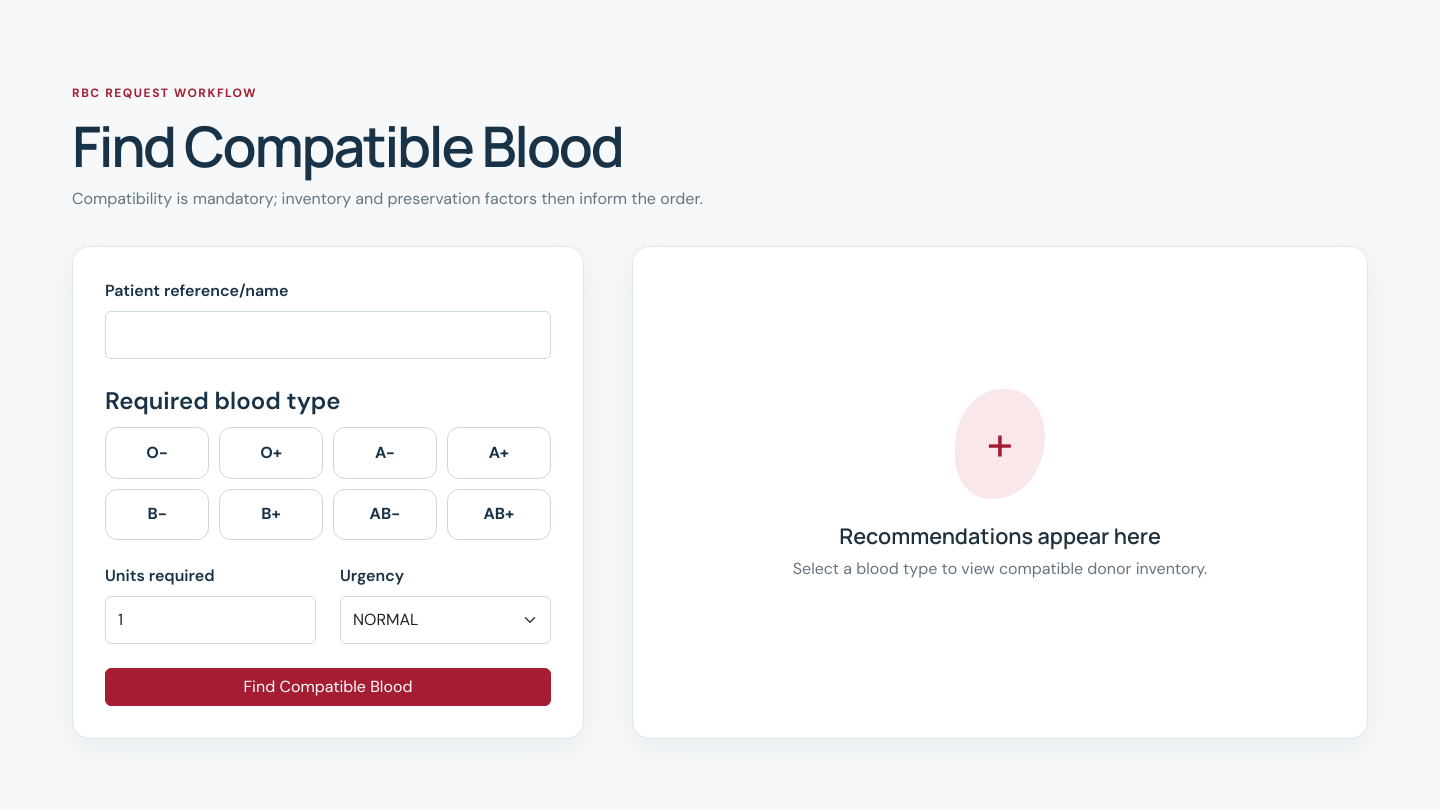
Test case: request form validates and submits
Click the button "Find Compatible Blood".
click(328, 687)  # box [105, 668, 551, 706]
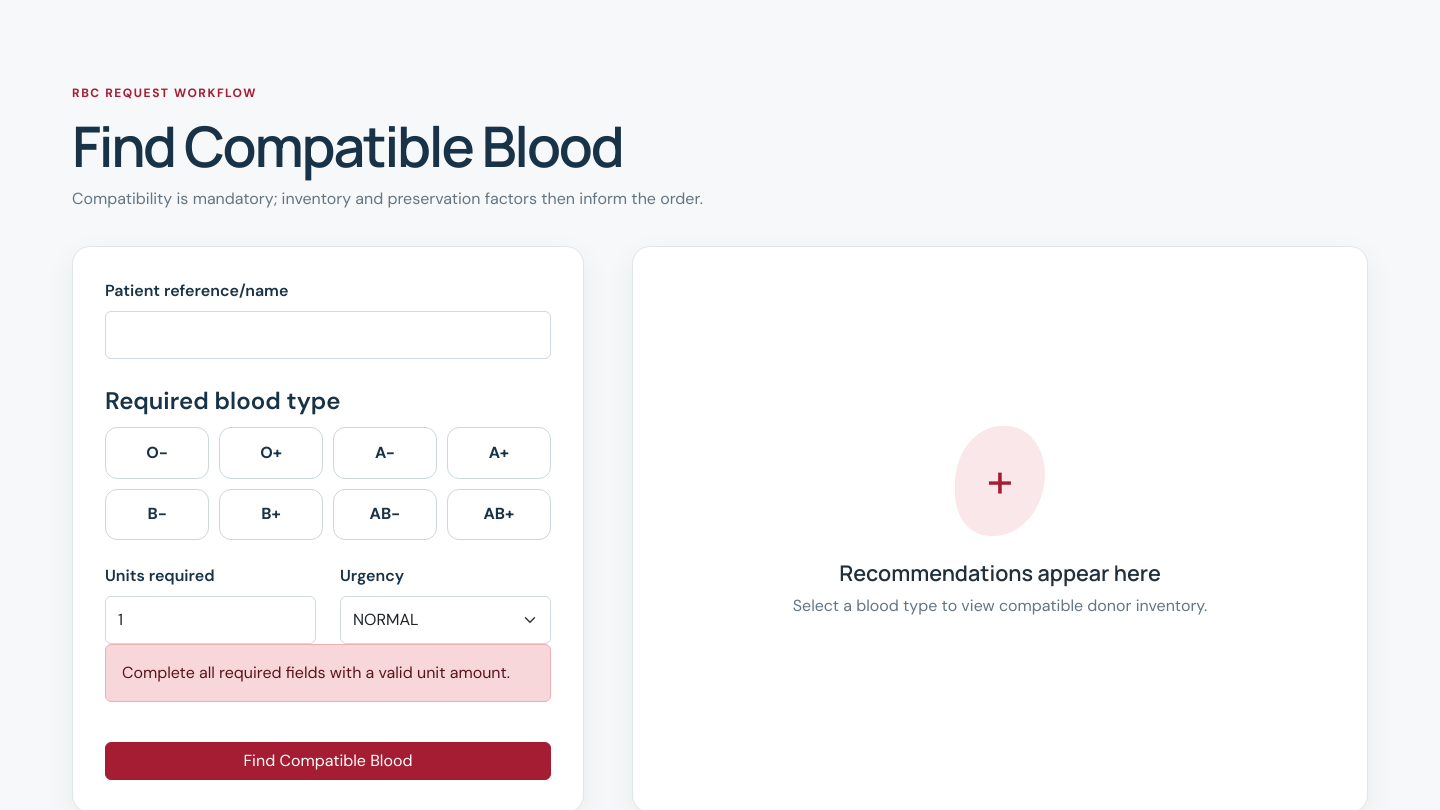
Expected: the message shows "Complete", [122, 662, 510, 683]
Type "P-1" into the field labelled "Patient reference/name".
click(328, 335); type("P-1")  # box [105, 311, 551, 359]
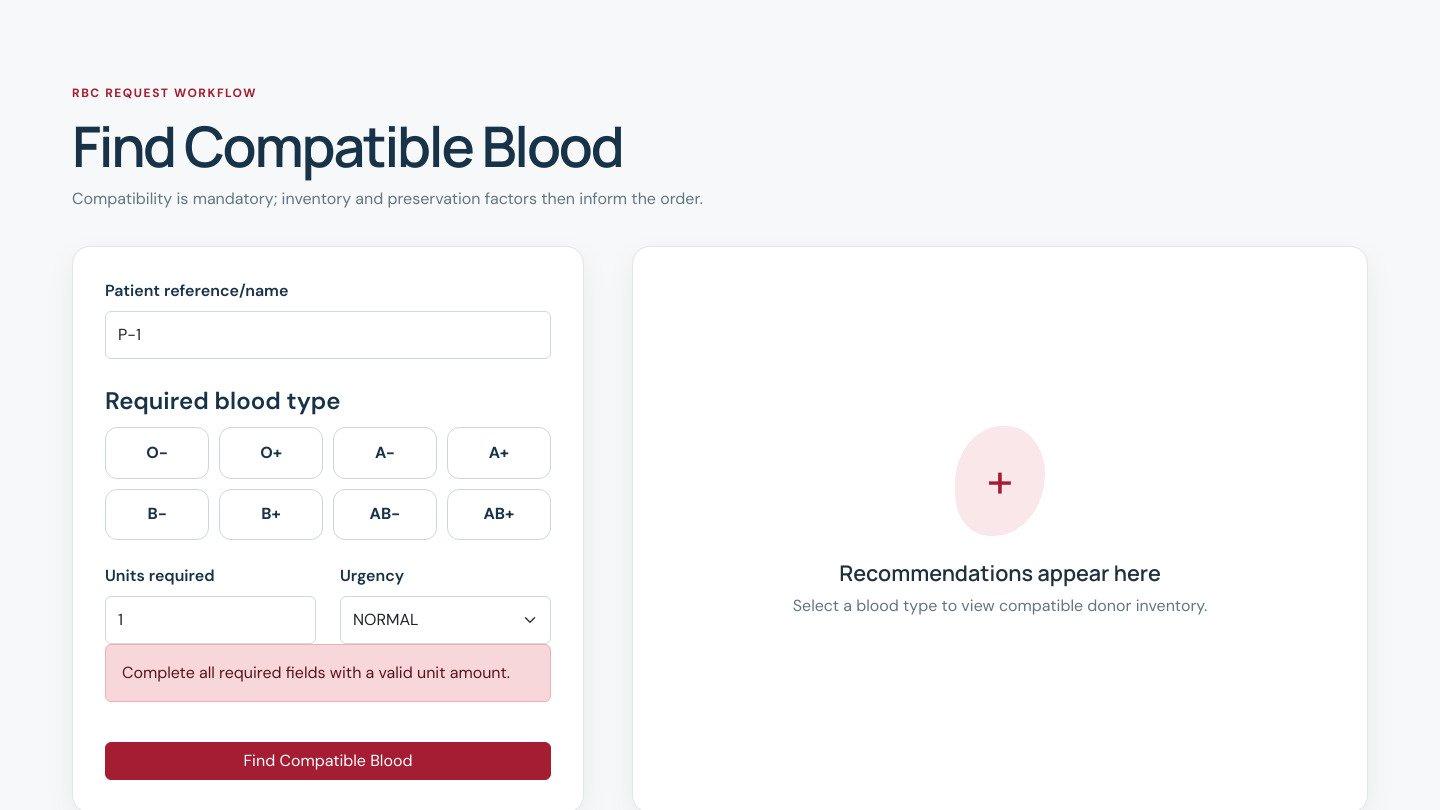
Click the text "A+".
click(499, 453)  # box [489, 442, 509, 463]
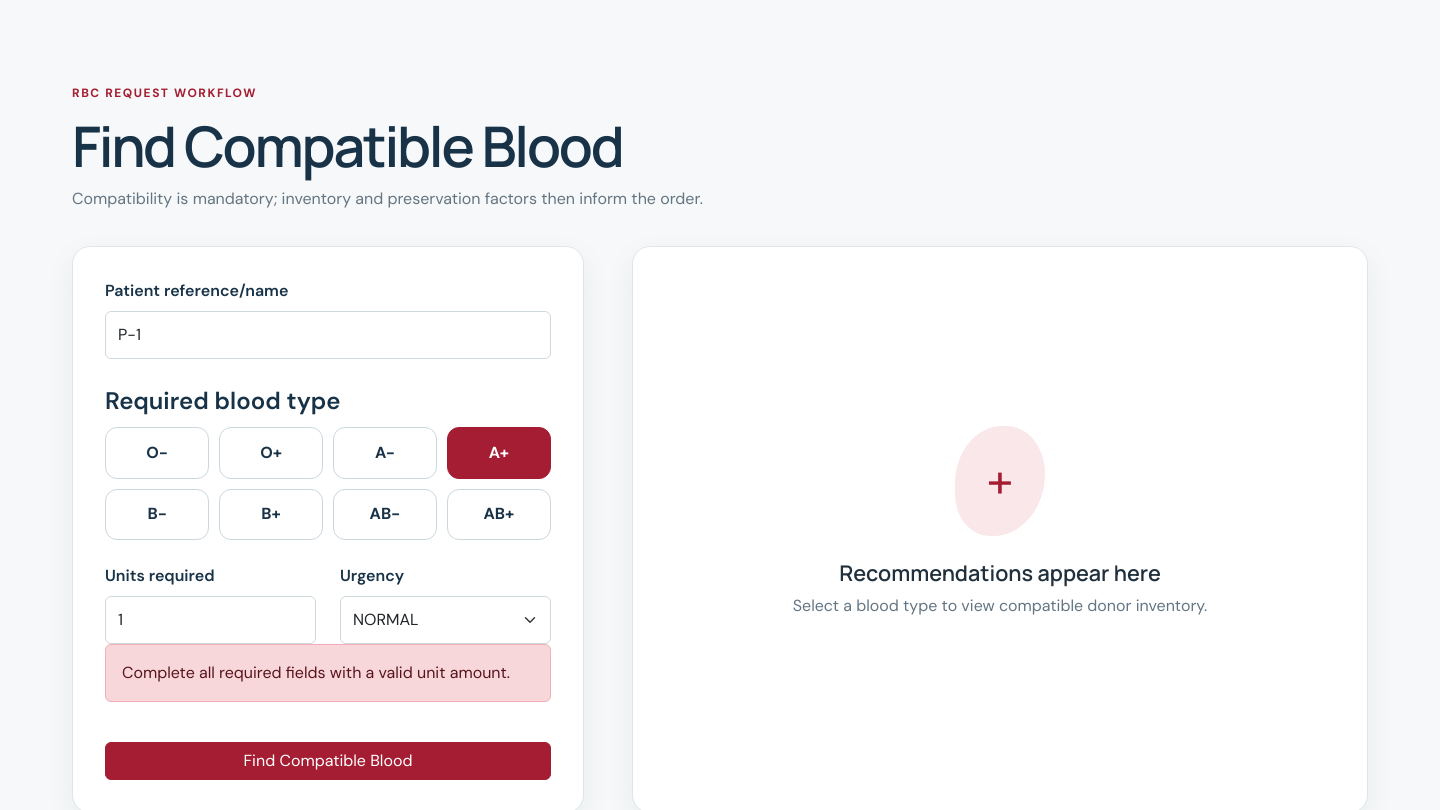
Click the button "Find Compatible Blood".
click(328, 761)  # box [105, 742, 551, 780]
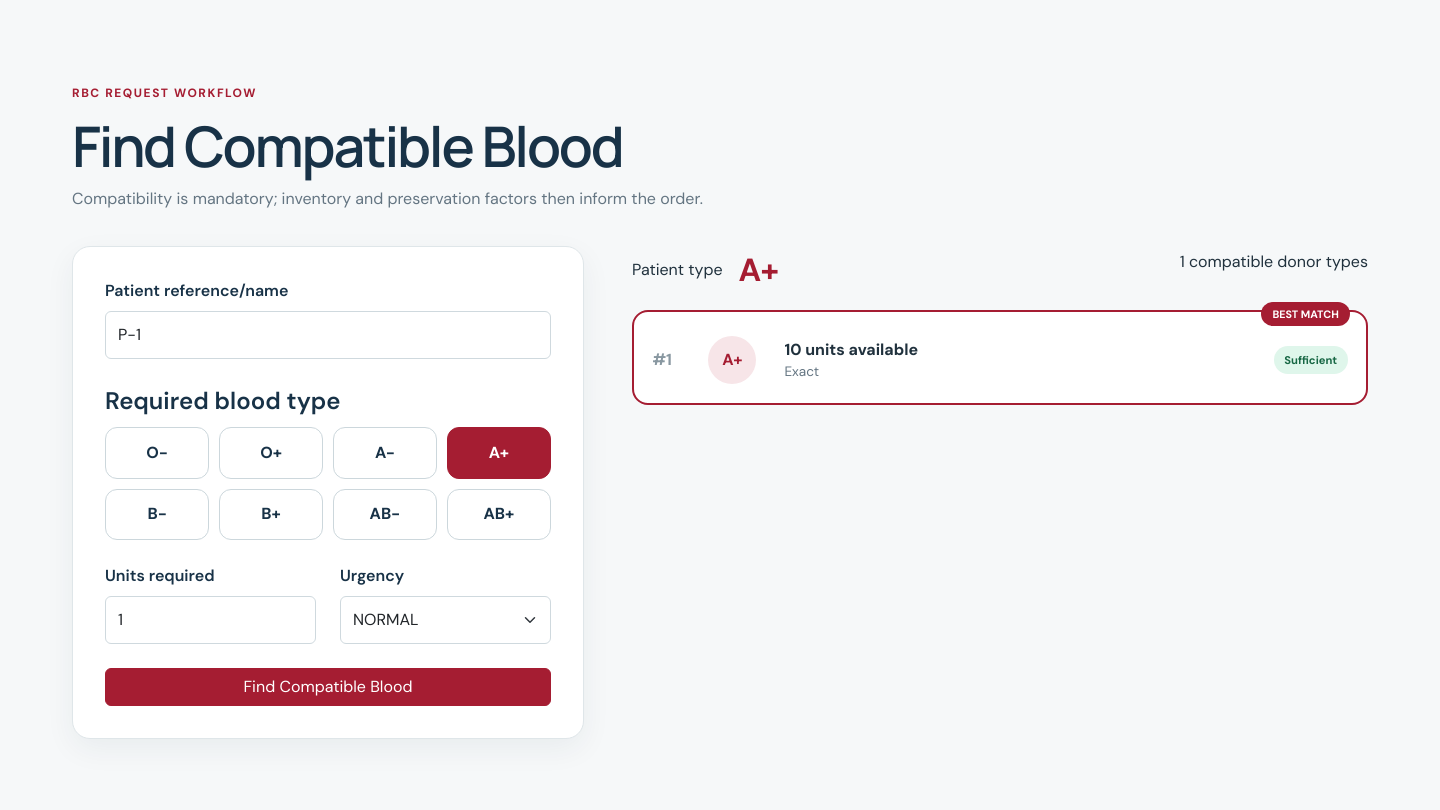
Expected: the text "10 units available" is shown, [784, 339, 918, 360]
